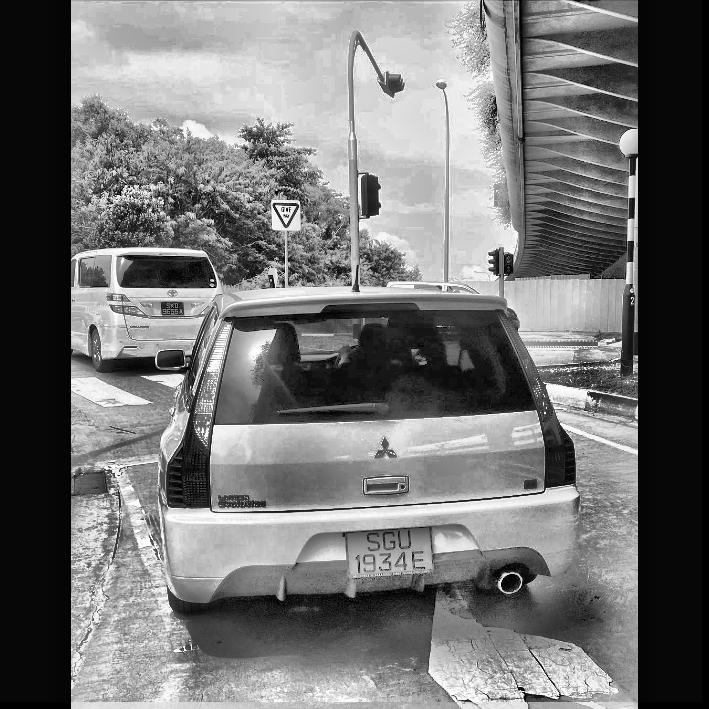License-Plates: (347, 526, 432, 576), (160, 302, 183, 315)
